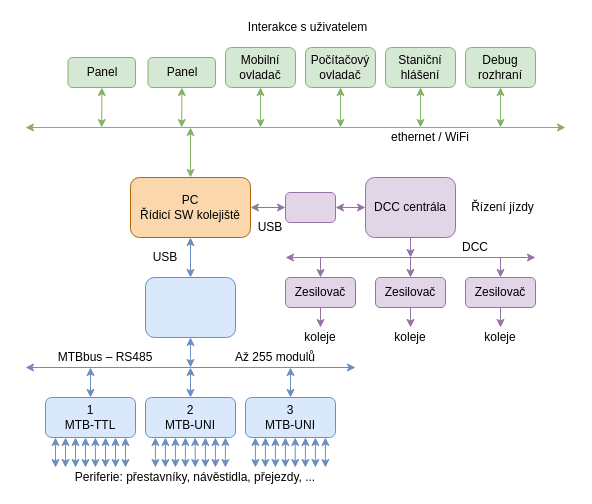
Image size: 592x504. Some labels were removed from this diagram. The box of each missing label's shape, as (x1, y1, x2, y2) in pixels:
LI: (284, 192, 336, 222)
MTB-USB: (144, 276, 236, 338)
